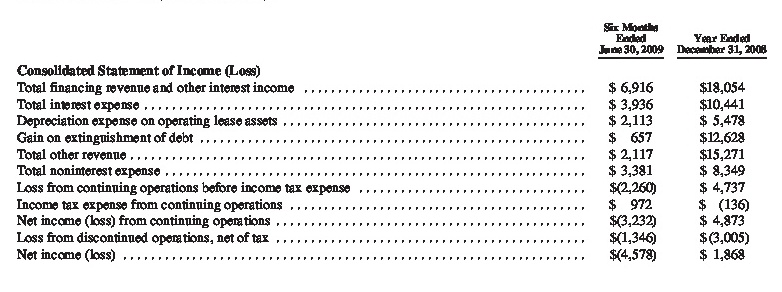table: (0, 0, 782, 292)
